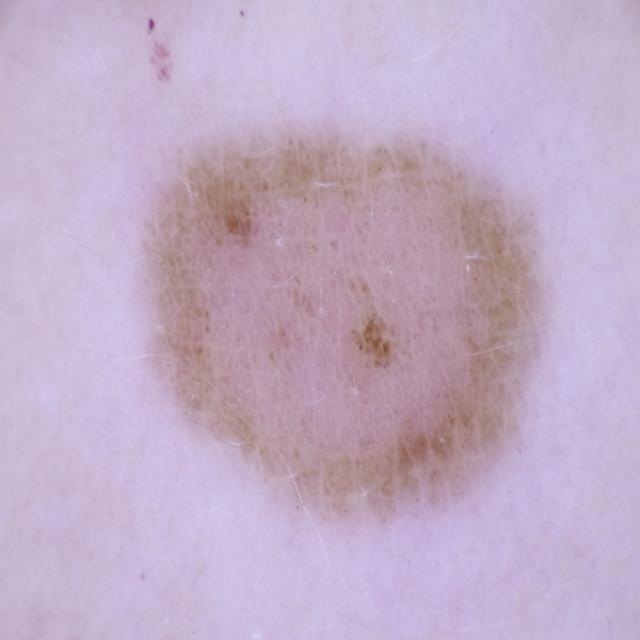NV: (147, 128, 543, 518)
